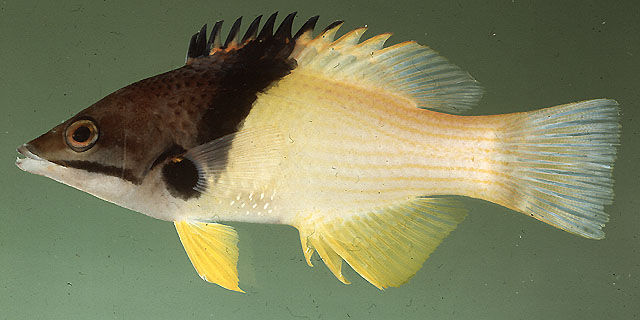fish: (15, 11, 623, 294)
